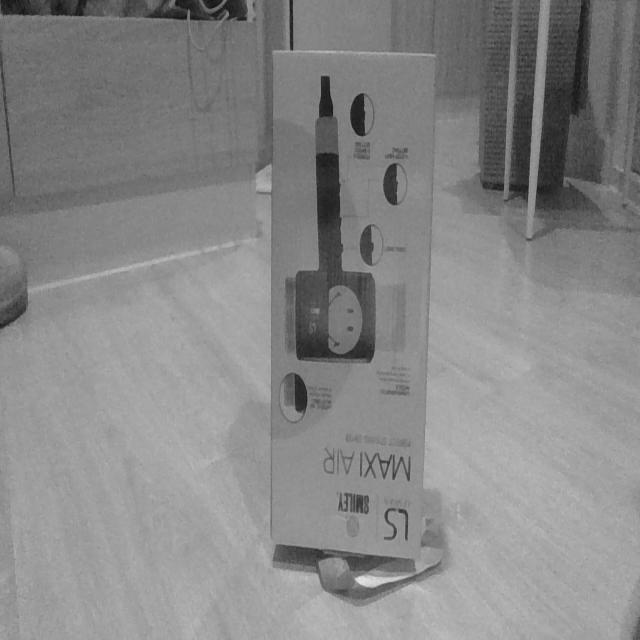Dryer: (267, 45, 437, 569)
